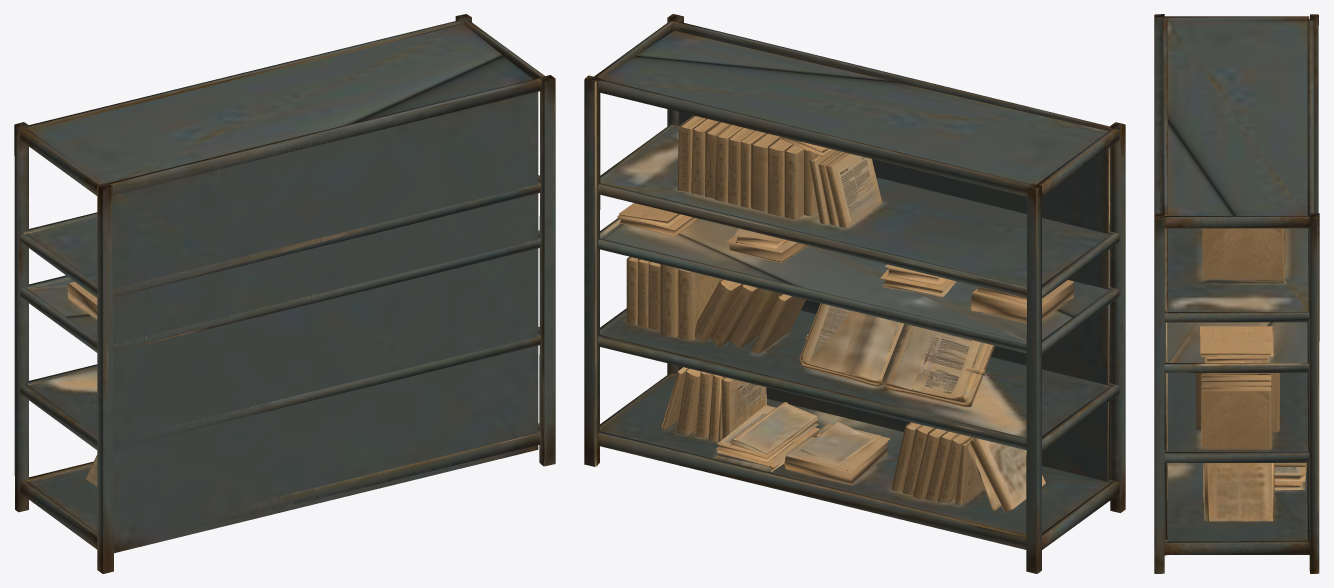
The model's file is office-office-shelf.glb.
3 renders of one model, left to right at view 1: azimuth 30°, elevation 25°; view 2: azimuth 150°, elevation 25°; view 3: azimuth 270°, elevation 25°, orthographic. The views are drawn at different scales.
Visible parts, largest first — view 1: office-shelf; view 2: office-shelf; view 3: office-shelf.
Boxes of the visible parts, x1=… form: office-shelf: x1=14, y1=14, x2=555, y2=573; office-shelf: x1=584, y1=14, x2=1125, y2=573; office-shelf: x1=1154, y1=14, x2=1319, y2=573.
Bounding box in the file's own units: 2.22 × 1.8 × 0.7574.
Materials: 1 (1 with a texture image).
